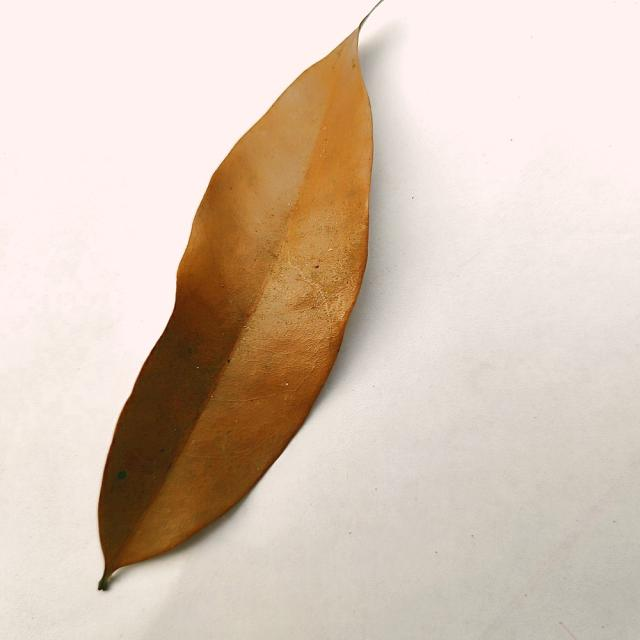Dry_Leaf-Lychee: (97, 28, 375, 591)
